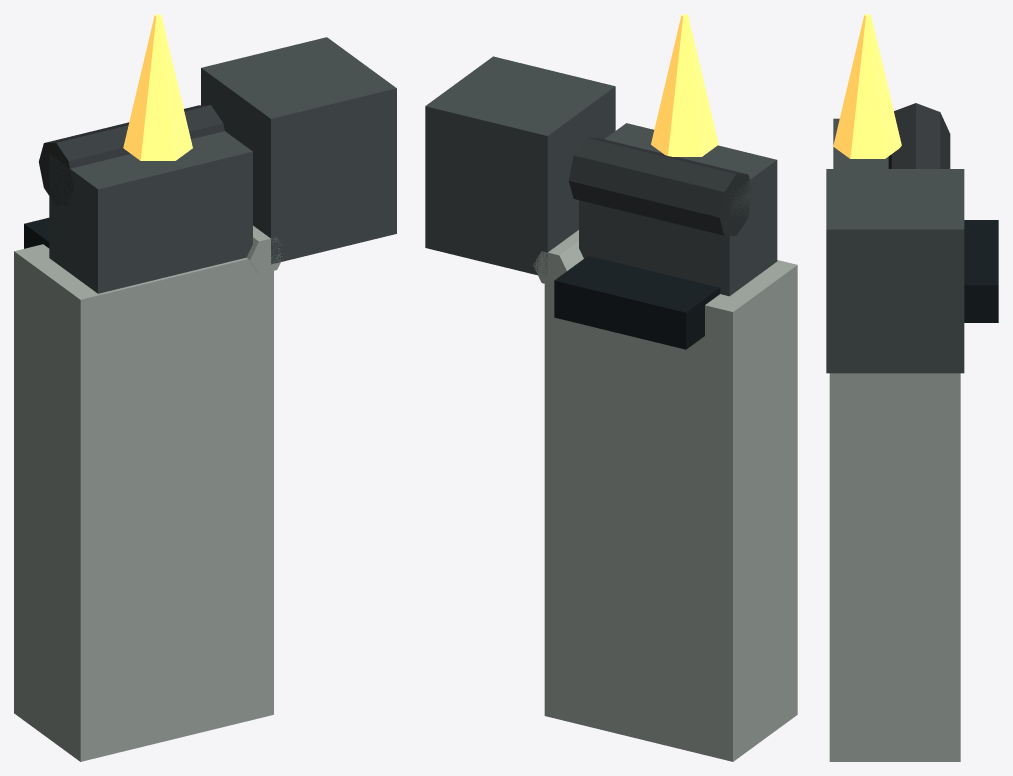
The model's file is blender_igniter_2_lit.glb.
3 renders of one model, left to right at view 1: azimuth 30°, elevation 25°; view 2: azimuth 150°, elevation 25°; view 3: azimuth 270°, elevation 25°, orthographic. The views are drawn at different scales.
Visible parts, largest first — view 1: blender_igniter_2_lit; view 2: blender_igniter_2_lit; view 3: blender_igniter_2_lit.
Boxes of the visible parts, x1,y1,x2,y2 form: blender_igniter_2_lit: [14, 14, 396, 761]; blender_igniter_2_lit: [425, 14, 797, 761]; blender_igniter_2_lit: [826, 14, 998, 761].
Bounding box in the file's own units: 0.052 × 0.112 × 0.025.
Materials: 2 (2 with a texture image).
